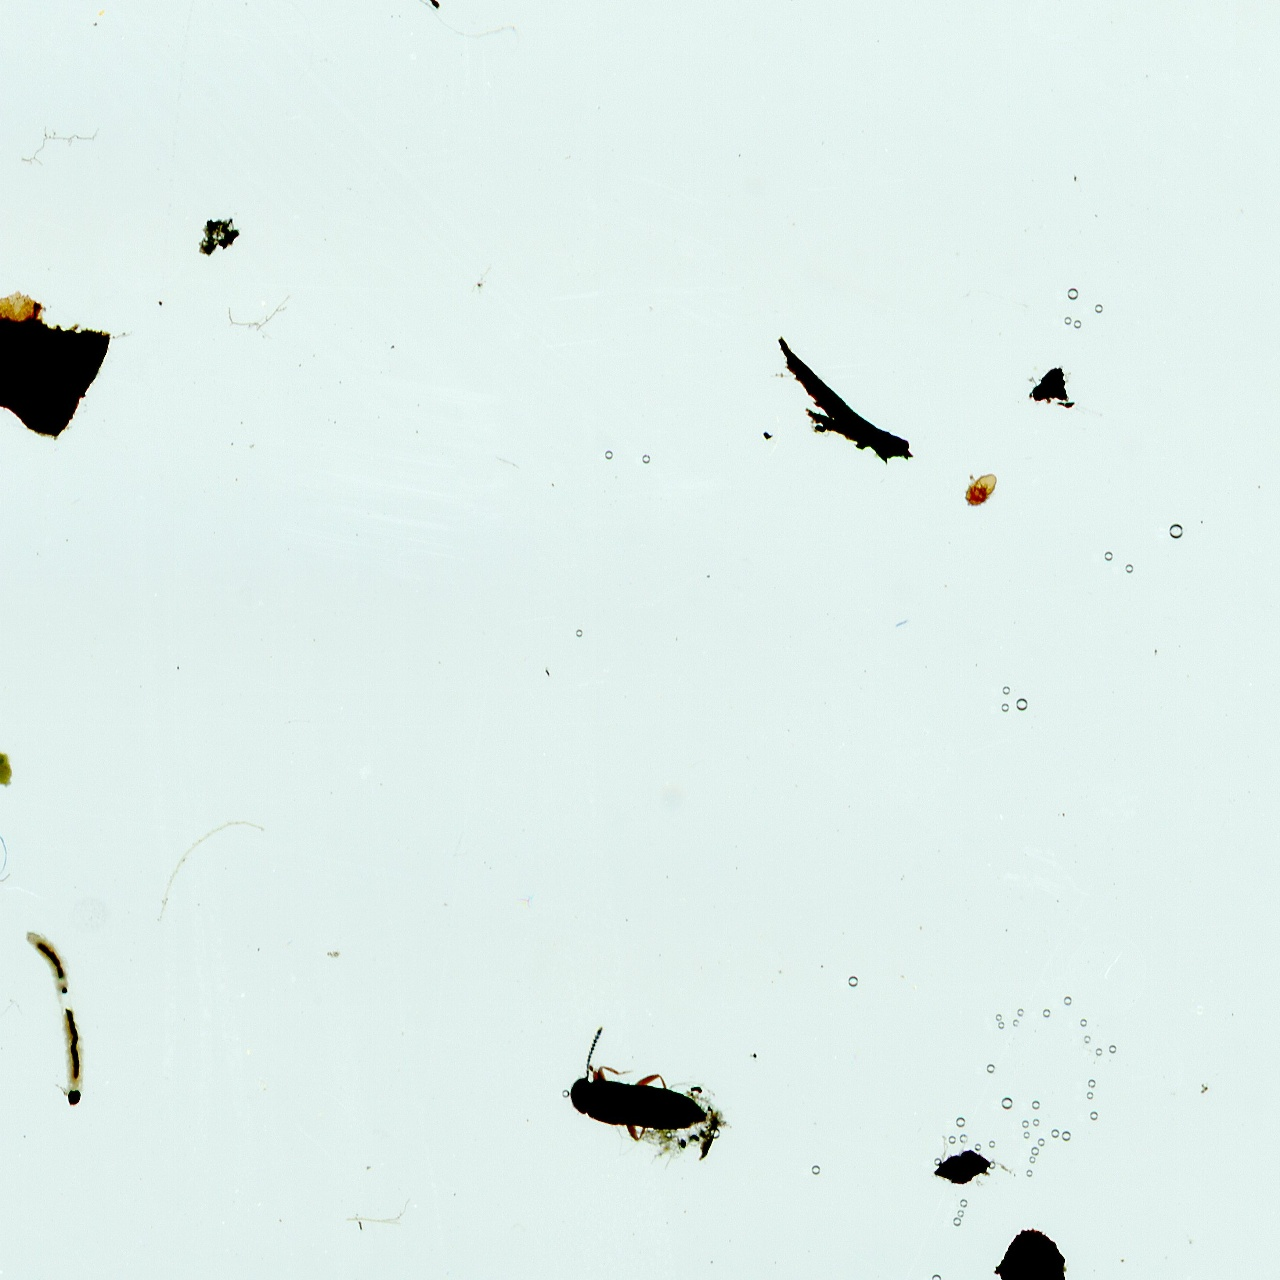arthropod: (557, 1020, 731, 1165), (17, 917, 103, 1114)
